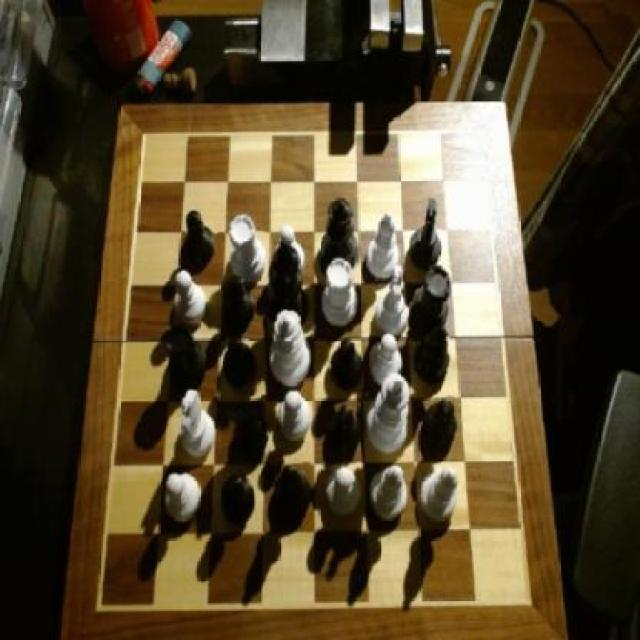bishop: (414, 326, 453, 387), (272, 463, 312, 522)
black-bishop: (268, 242, 312, 328)
black-king: (229, 397, 272, 463), (410, 197, 442, 270)
black-knight: (324, 406, 360, 466), (180, 212, 218, 268), (223, 334, 260, 391), (328, 334, 364, 390), (423, 395, 459, 450), (222, 474, 258, 526), (224, 274, 258, 324)
black-pawn: (320, 196, 362, 276)
black-queen: (408, 268, 452, 334), (163, 324, 208, 388)
black-rook: (420, 466, 462, 522), (366, 212, 399, 280), (371, 465, 408, 522)
white-bishop: (366, 376, 409, 456)
white-king: (177, 389, 216, 460), (375, 264, 410, 334)
white-knight: (323, 462, 361, 520), (164, 468, 203, 524), (278, 388, 314, 440), (174, 268, 208, 322), (371, 336, 403, 386), (277, 225, 305, 273)
white-pawn: (271, 311, 313, 385)
white-queen: (320, 256, 360, 328), (228, 212, 267, 282)
